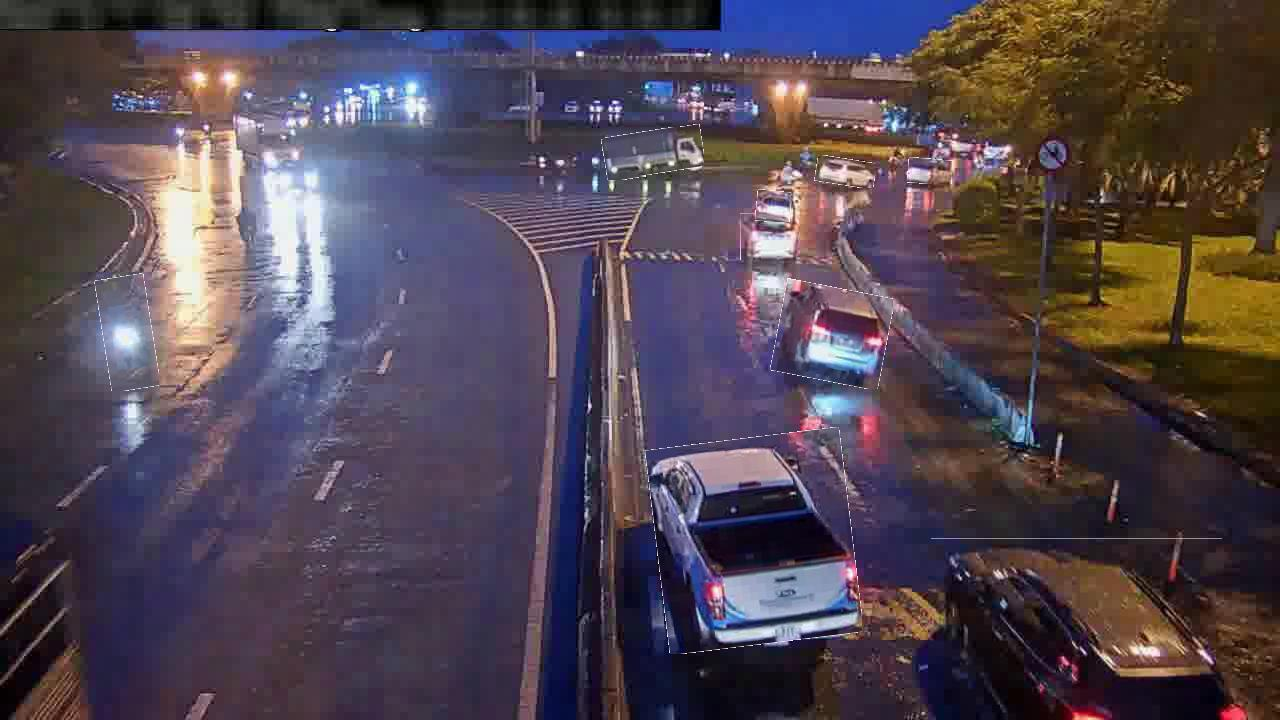8: (603, 128, 704, 178)
container: (931, 538, 1223, 719), (651, 432, 858, 650), (774, 283, 891, 386), (740, 213, 797, 261), (815, 157, 876, 187), (908, 158, 953, 185), (756, 190, 792, 223)
motorbike: (99, 275, 156, 391)
